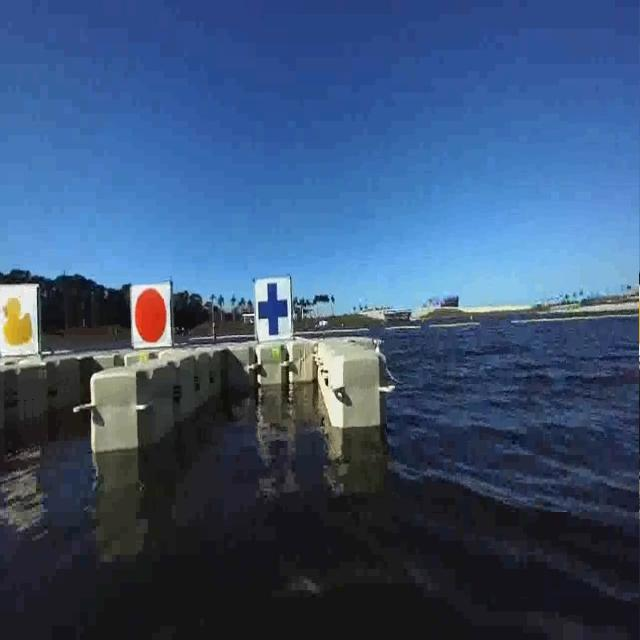blue-cross: (253, 276, 294, 346)
red-dot: (130, 279, 174, 346)
yellow-duck: (0, 282, 43, 361)
